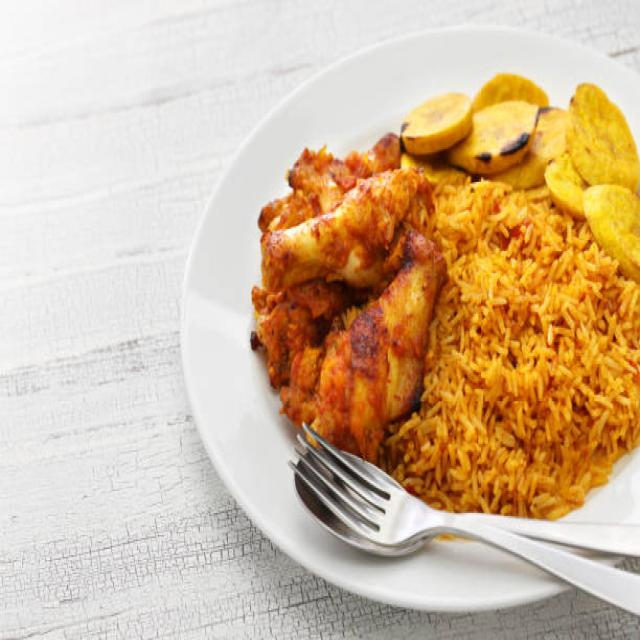Frango: (250, 132, 448, 469)
